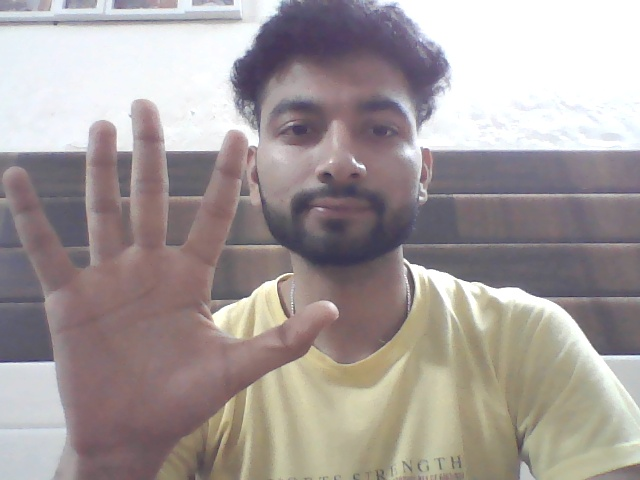Hello: (6, 110, 345, 458)
